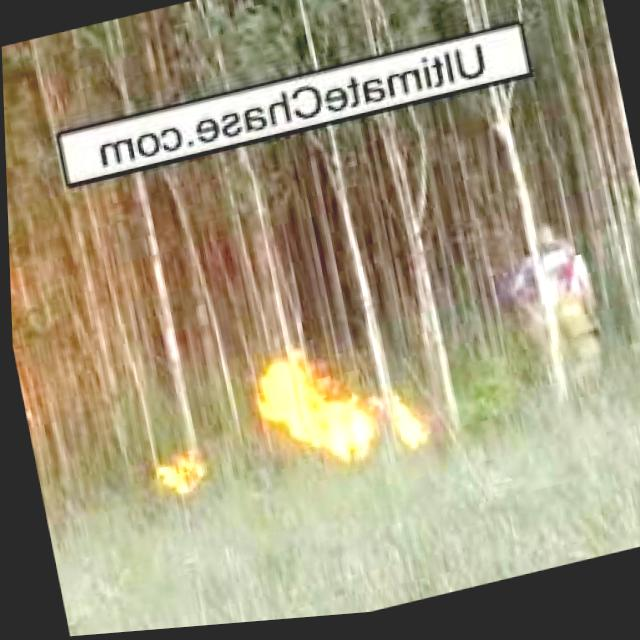helmet: (241, 338, 374, 484), (144, 441, 208, 510), (383, 394, 425, 465)
